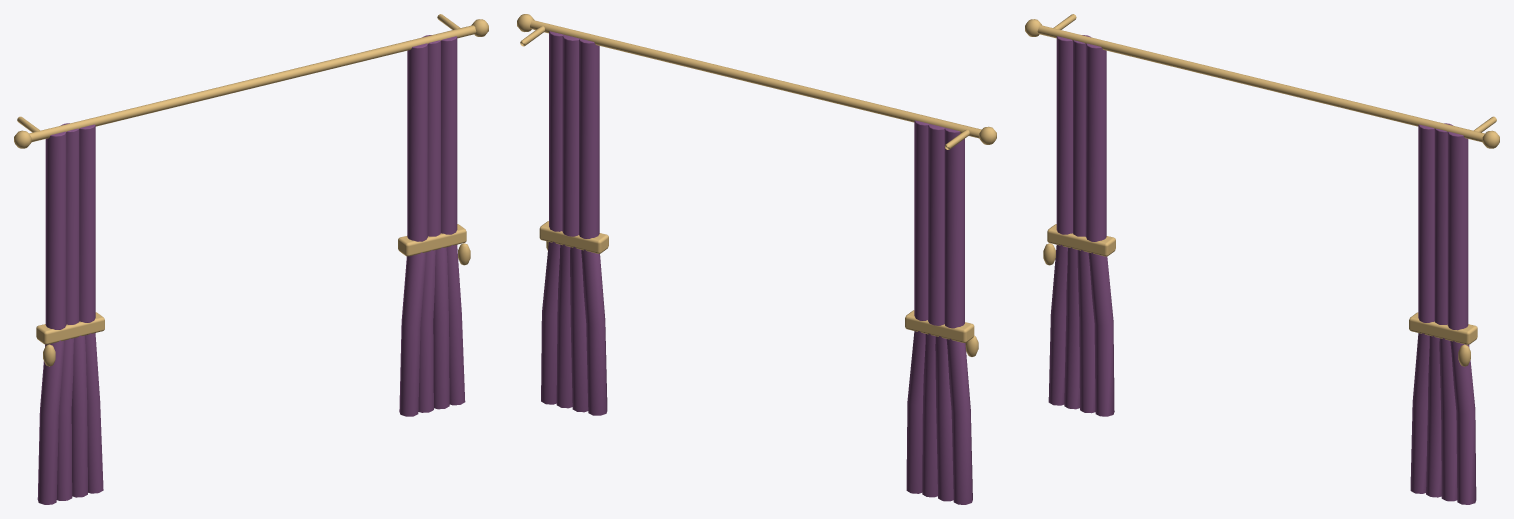
Rendered from Velvet_Curtains.fbx.
3 renders of one model, left to right at view 1: azimuth 30°, elevation 25°; view 2: azimuth 150°, elevation 25°; view 3: azimuth 330°, elevation 25°, orthographic.
Parts seen in each view (by area): view 1: Velvet_Curtains_Mesh; view 2: Velvet_Curtains_Mesh; view 3: Velvet_Curtains_Mesh.
Boxes of the visible parts, x1,y1,x2,y2 form: Velvet_Curtains_Mesh: (14,14,488,504); Velvet_Curtains_Mesh: (517,14,996,504); Velvet_Curtains_Mesh: (1025,14,1499,504).
Bounding box in the file's own units: 1.78 × 1.35 × 0.1949.
